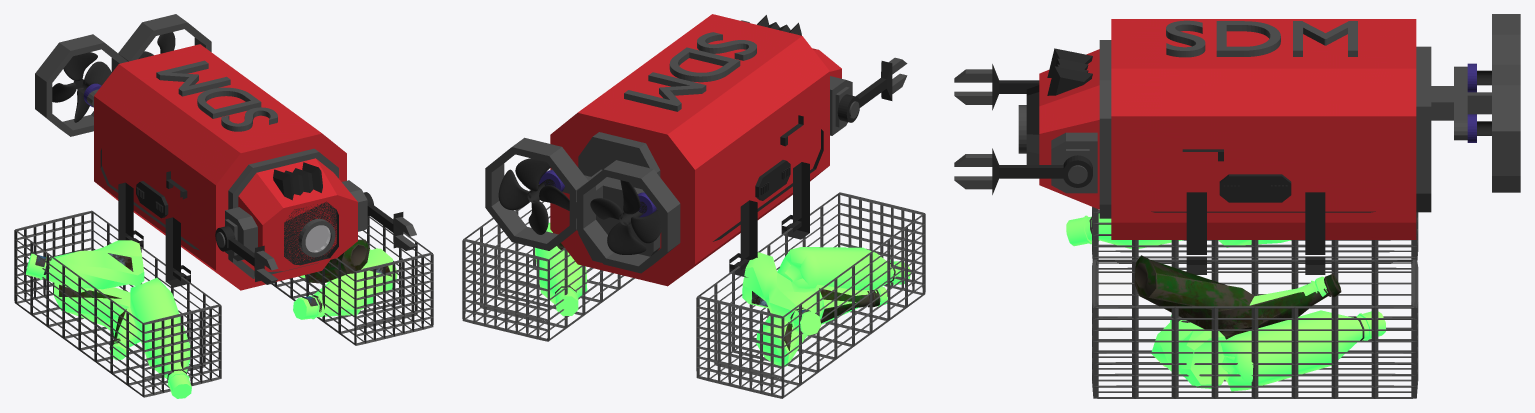
Rendered from collector_manual_with_2bottles.glb.
3 views of the same model, side by side, from view 1: azimuth 30°, elevation 25°; view 2: azimuth 150°, elevation 25°; view 3: azimuth 270°, elevation 25° (orthographic). The views are drawn at different scales.
Parts seen in each view (by area): view 1: main_body, Plastic_Bottle_01_GEO.006, Plastic_Bottle_01_GEO.007, camera_lens; view 2: main_body, Plastic_Bottle_01_GEO.006, Plastic_Bottle_01_GEO.007; view 3: main_body, Plastic_Bottle_01_GEO.006, Plastic_Bottle_01_GEO.007.
Boxes of the visible parts, x1,y1,x2,y2 form: main_body: [14, 14, 433, 397]; Plastic_Bottle_01_GEO.006: [26, 240, 397, 398]; Plastic_Bottle_01_GEO.007: [35, 239, 391, 380]; camera_lens: [305, 225, 330, 252]; main_body: [462, 14, 925, 398]; Plastic_Bottle_01_GEO.006: [535, 222, 910, 366]; Plastic_Bottle_01_GEO.007: [555, 243, 895, 350]; main_body: [954, 14, 1520, 398]; Plastic_Bottle_01_GEO.006: [1066, 213, 1385, 391]; Plastic_Bottle_01_GEO.007: [1089, 217, 1364, 340].
Size of the model in its own units: 4.3 by 2.99 by 5.53.
4 materials, 4 textured.
